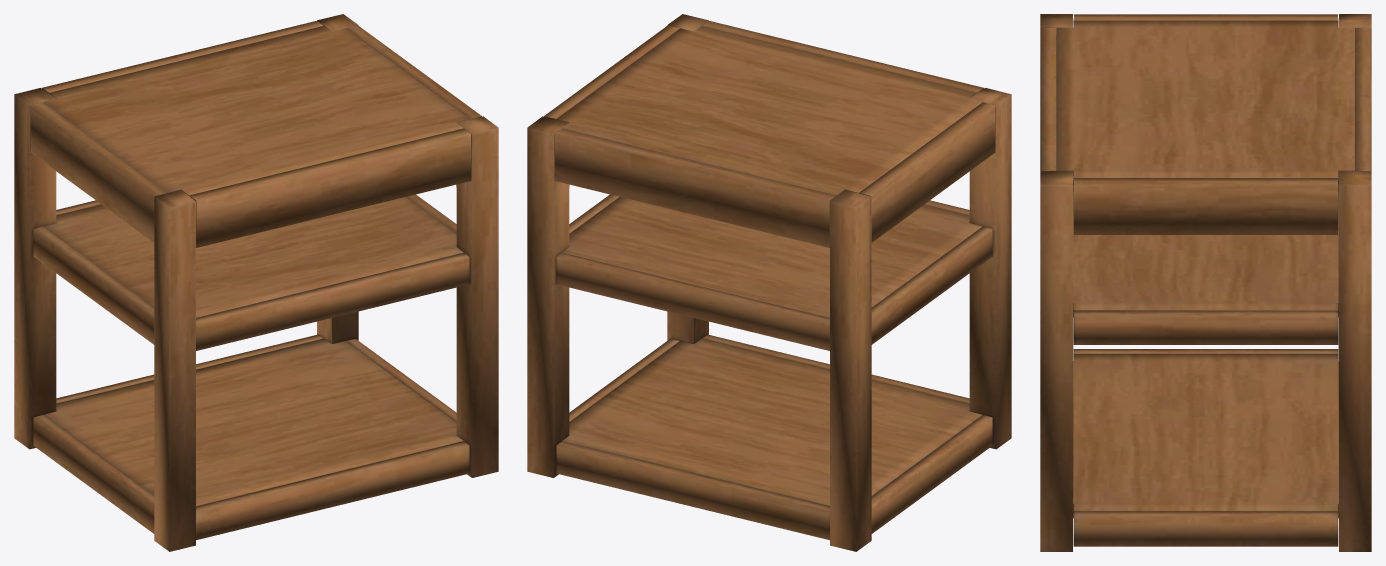
The model's file is side_table_01.glb.
3 views of the same model, side by side, from view 1: azimuth 30°, elevation 25°; view 2: azimuth 150°, elevation 25°; view 3: azimuth 270°, elevation 25° (orthographic). The views are drawn at different scales.
Visible parts, largest first — view 1: side_table_01; view 2: side_table_01; view 3: side_table_01.
Part boxes in pixels (x1,y1,x2,y2): side_table_01: (14, 14, 498, 551); side_table_01: (527, 14, 1011, 551); side_table_01: (1040, 14, 1371, 551).
Size of the model in its own units: 0.5485 by 0.5507 by 0.4486.
1 material, 1 textured.
